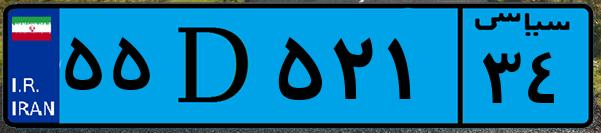1: (385, 28, 445, 110)
2: (330, 28, 385, 110)
3: (475, 38, 525, 113)
4: (525, 38, 570, 115)
5: (270, 28, 330, 110), (57, 26, 110, 100), (110, 28, 158, 98)
D: (158, 12, 270, 120)
